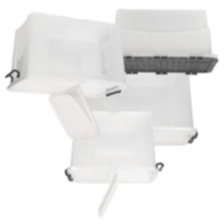plastic_box: (0, 6, 134, 144), (58, 106, 168, 222), (79, 64, 200, 152), (106, 2, 223, 82)
